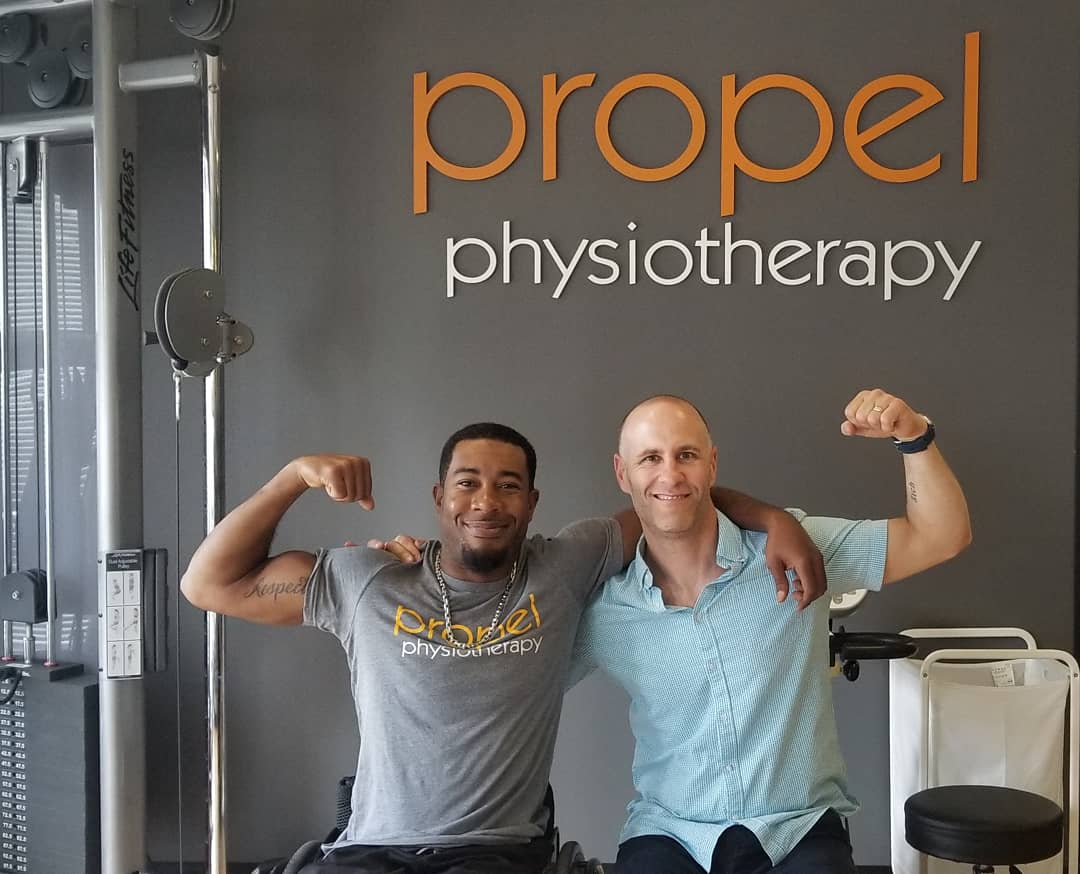Person: (580, 386, 980, 874), (168, 410, 597, 858)
